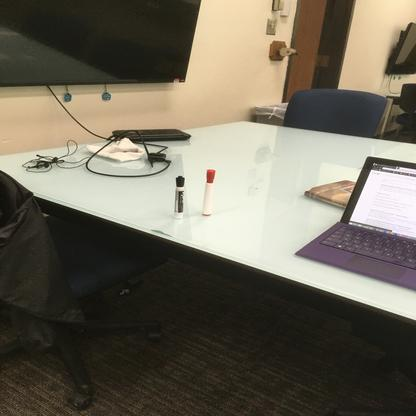expo_marker: (166, 174, 190, 221), (199, 168, 221, 217)
